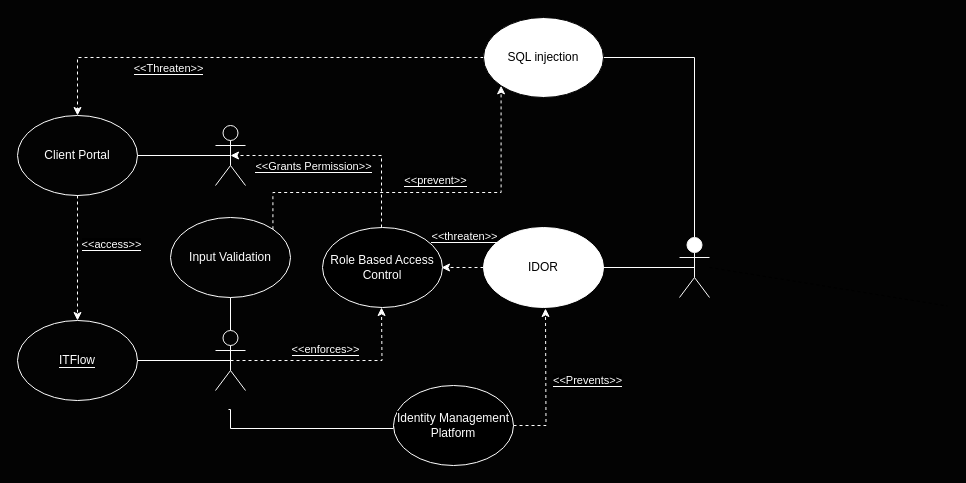
This 966x483 diagram has some shape labels left out. Each missing label, with the centre of its shape:
"Ex-Employee" goes at pixel 694 267.
"Nurse" goes at pixel 230 155.
"technician" goes at pixel 230 360.
